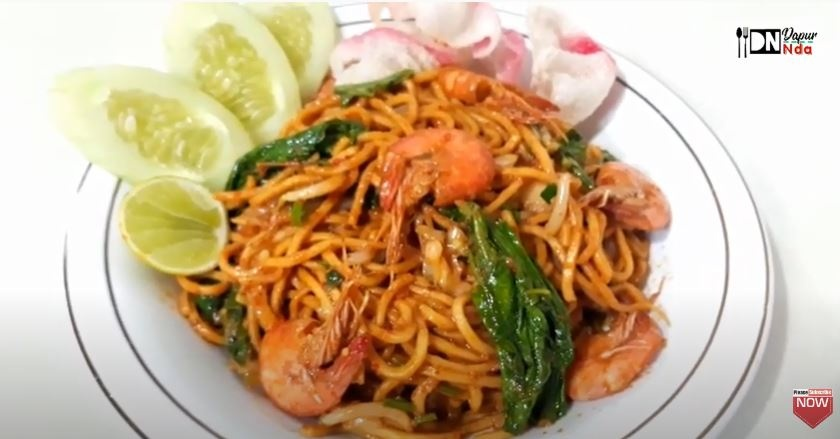mie_aceh: (205, 77, 664, 426)
